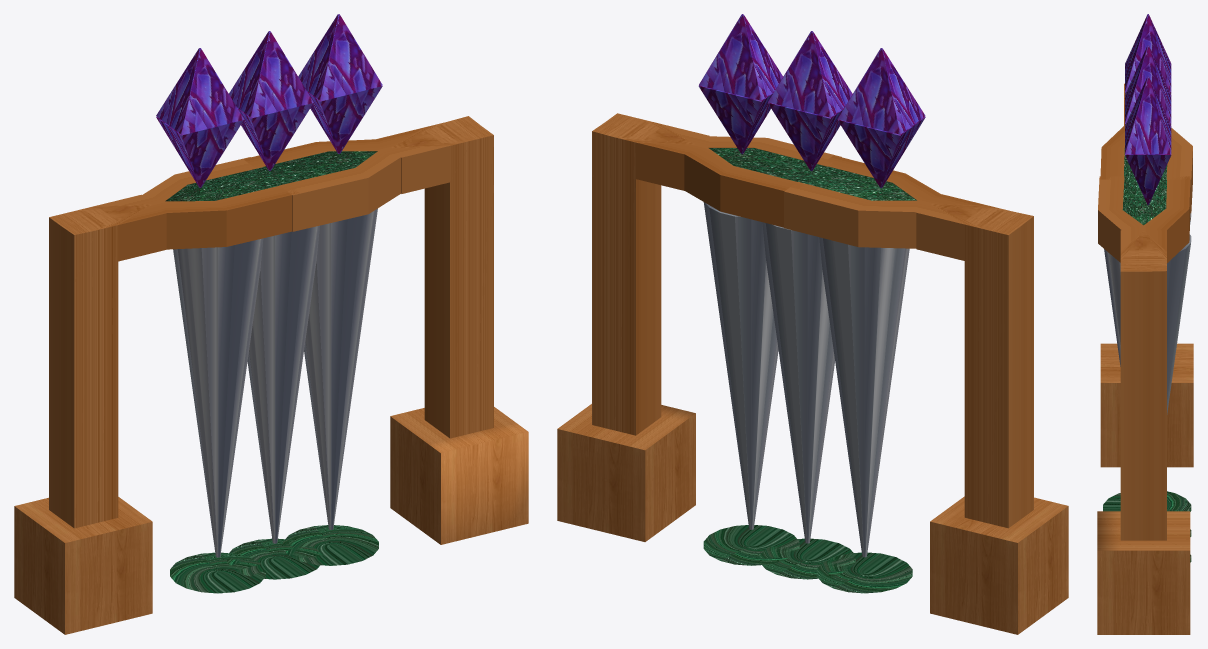
Rendered from extractorNivel3.fbx.
3 renders of one model, left to right at view 1: azimuth 30°, elevation 25°; view 2: azimuth 150°, elevation 25°; view 3: azimuth 270°, elevation 25°, orthographic. The views are drawn at different scales.
Visible parts, largest first — view 1: Box018, Box013, Cylinder010, Cylinder005, Cylinder008, Box015, Box021, Box016, Box019, Cylinder009, Cylinder007, Box022 (+3 smaller); view 2: Box018, Box013, Cylinder010, Cylinder008, Cylinder005, Box021, Box015, Box016, Box019, Cylinder009, Cylinder007, Cylinder006 (+3 smaller); view 3: Box013, Box018, Cylinder008, Box019, Box015, Box021, Box016, Box020, Cylinder009.
Part boxes in pixels (x1,y1,x2,y2): Box018: (14,157,299,634); Box013: (243,116,528,544); Cylinder010: (173,238,263,557); Cylinder005: (247,225,319,543); Cylinder008: (304,208,377,529); Box015: (165,151,377,201); Box021: (156,48,243,134); Box016: (229,31,313,117); Box019: (298,14,382,100); Cylinder009: (170,552,265,593); Cylinder007: (283,525,378,565); Box022: (156,117,243,187); Box018: (784,155,1068,634); Box013: (557,113,841,541); Cylinder010: (819,237,909,557); Cylinder008: (703,202,778,529); Cylinder005: (762,222,834,543); Box021: (838,48,925,134); Box015: (709,148,916,200); Box016: (768,31,852,117); Box019: (699,14,783,100); Cylinder009: (816,552,912,593); Cylinder007: (703,525,799,565); Cylinder006: (759,538,855,579); Box013: (1097,176,1190,634); Box018: (1100,83,1193,467); Cylinder008: (1104,234,1191,414); Box019: (1125,76,1171,154); Box015: (1122,148,1167,225); Box021: (1125,14,1171,91); Box016: (1125,45,1171,123); Box020: (1125,154,1171,205); Cylinder009: (1103,491,1191,511).
Size of the model in its own units: 1.32 by 1.44 by 0.2589.
Materials: 4 (4 with a texture image).
